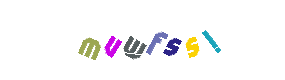1: (152, 0, 232, 80)
F: (102, 0, 182, 80)
M: (51, 0, 131, 80)
S: (132, 0, 212, 80), (139, 0, 219, 80)
U: (72, 0, 152, 80)
W: (93, 0, 173, 80)
